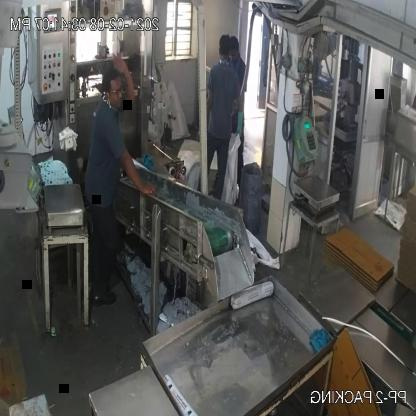no_glove: (116, 142, 157, 198), (111, 46, 136, 108)
